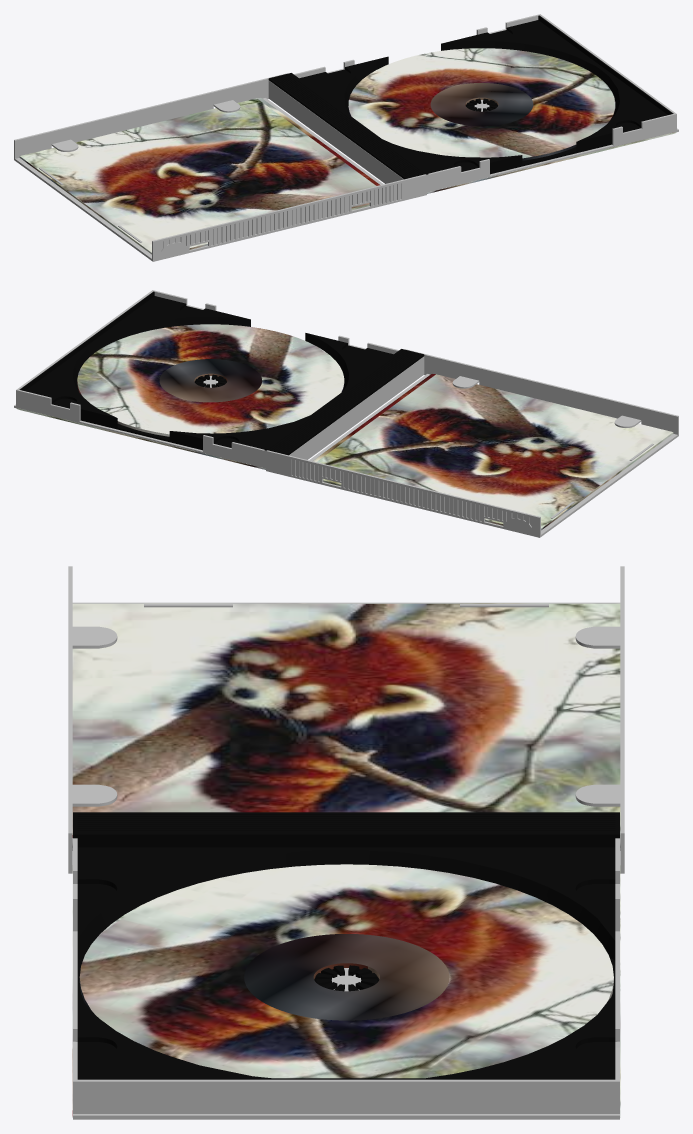
Rendered from cdmodel.fbx.
3 views of the same model, one above another, from view 1: azimuth 30°, elevation 25°; view 2: azimuth 150°, elevation 25°; view 3: azimuth 270°, elevation 25° (orthographic). The views are drawn at different scales.
Parts seen in each view (by area): view 1: booklet, cd, cd_support, front_cover, back, back_cover; view 2: booklet, cd, cd_support, front_cover, back, back_cover; view 3: booklet, cd, cd_support, back, front_cover.
Boxes of the visible parts, <box> form: booklet: <box>19,98,380,254</box>; cd: <box>348,48,615,160</box>; cd_support: <box>268,15,673,179</box>; front_cover: <box>14,73,426,261</box>; back: <box>268,14,678,192</box>; back_cover: <box>427,132,676,193</box>; booklet: <box>312,374,673,530</box>; cd: <box>77,324,344,436</box>; cd_support: <box>19,291,424,455</box>; front_cover: <box>266,349,678,537</box>; back: <box>14,290,424,468</box>; back_cover: <box>16,408,265,469</box>; booklet: <box>72,603,620,837</box>; cd: <box>79,864,613,1078</box>; cd_support: <box>73,812,619,1079</box>; back: <box>73,838,619,1119</box>; front_cover: <box>68,566,624,873</box>.
Size of the model in its own units: 10.77 by 0.41 by 4.92.
5 materials, 2 textured.
